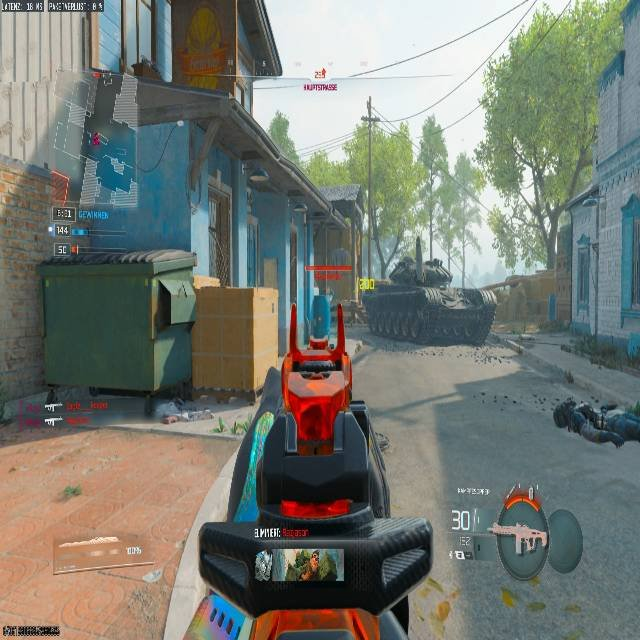head: (553, 398, 575, 428)
player: (554, 394, 640, 452)
